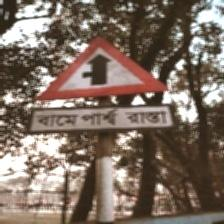Side-road-left: (30, 34, 173, 134)
